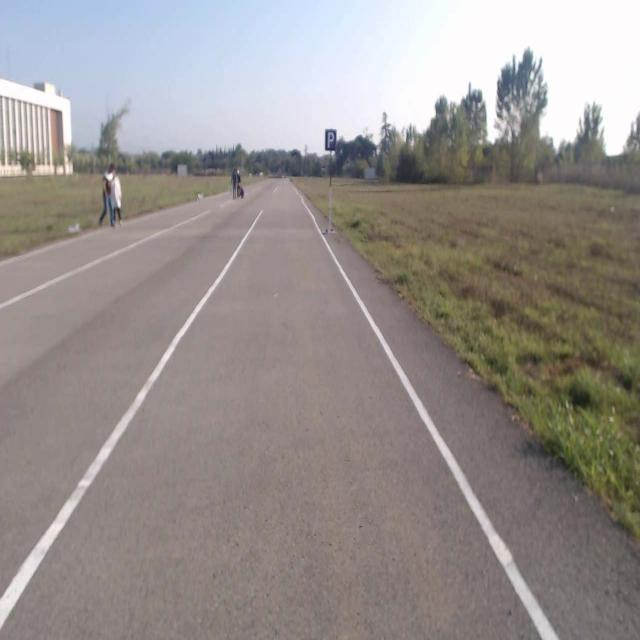park: (324, 128, 336, 149)
